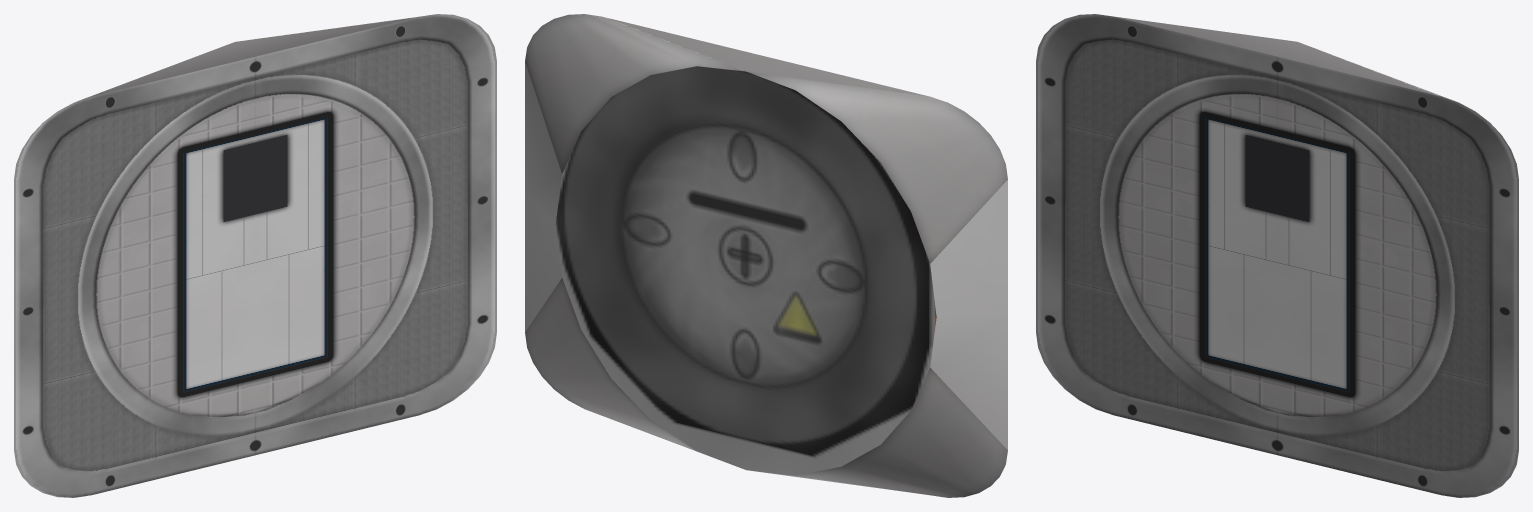
File: BuffaloAdapter.FBX
The picture shows the model from 3 angles, left to right: view 1: azimuth 30°, elevation 25°; view 2: azimuth 150°, elevation 25°; view 3: azimuth 330°, elevation 25°; orthographic projection.
Visible parts, largest first — view 1: BuffaloEndCap, HardShell2U; view 2: 1.25mCap, HardShell2U; view 3: BuffaloEndCap, HardShell2U.
Boxes of the visible parts, box(x1,y1,x2,y2) form: BuffaloEndCap: box(14, 14, 496, 497); HardShell2U: box(79, 16, 418, 100); 1.25mCap: box(555, 66, 936, 475); HardShell2U: box(525, 14, 1007, 497); BuffaloEndCap: box(1036, 14, 1518, 497); HardShell2U: box(1103, 15, 1453, 100).
Bounding box in the file's own units: 1.59 × 1.25 × 0.1155.
